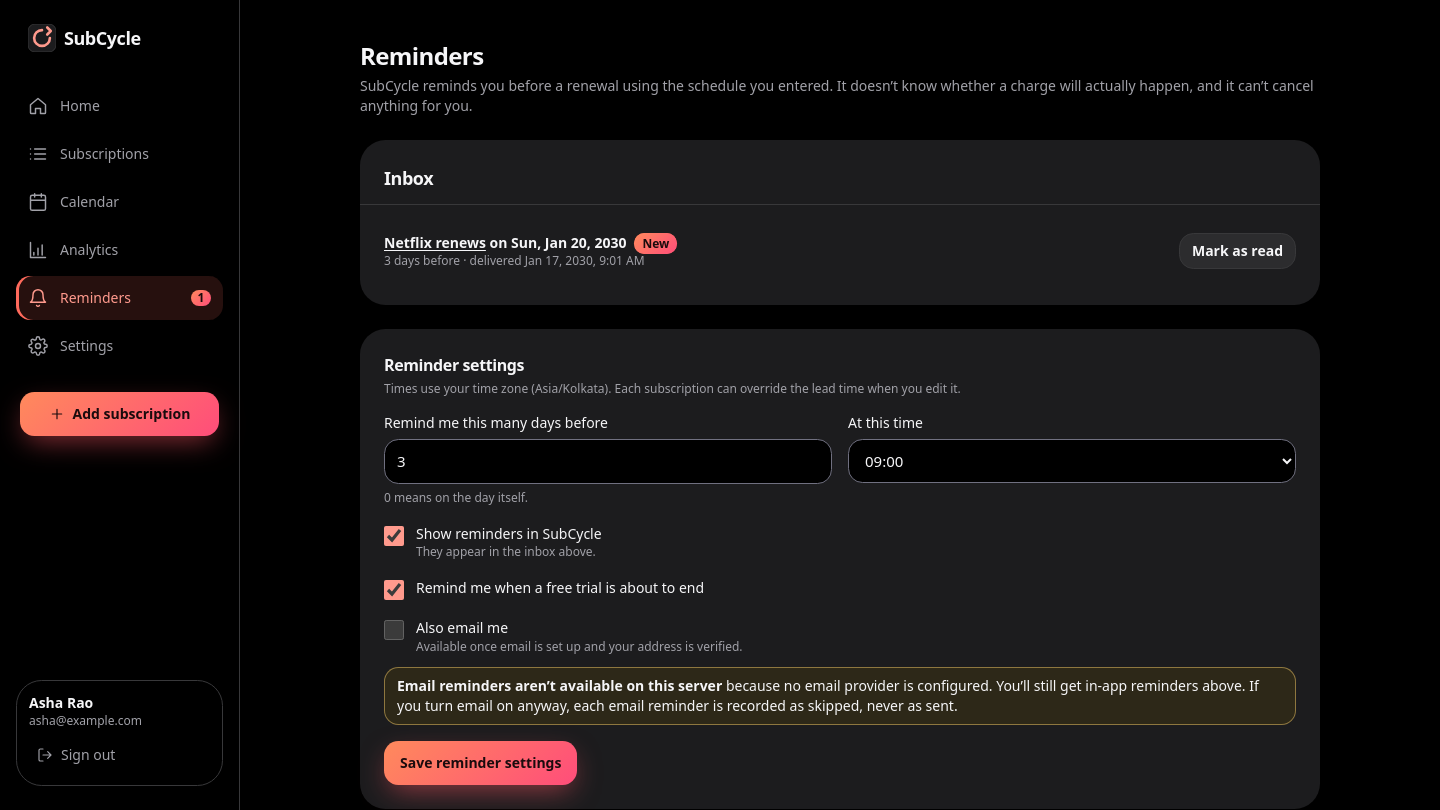
Test: reminders: inbox › a failed dismissal shows an error and keeps the reminder unread
Expected: the heading "Reminders" is shown, [360,39,484,72]
Click the button with aria-label "Mark as read: reminder for Netflix".
click(1237, 251)  # box [1179,233,1296,269]
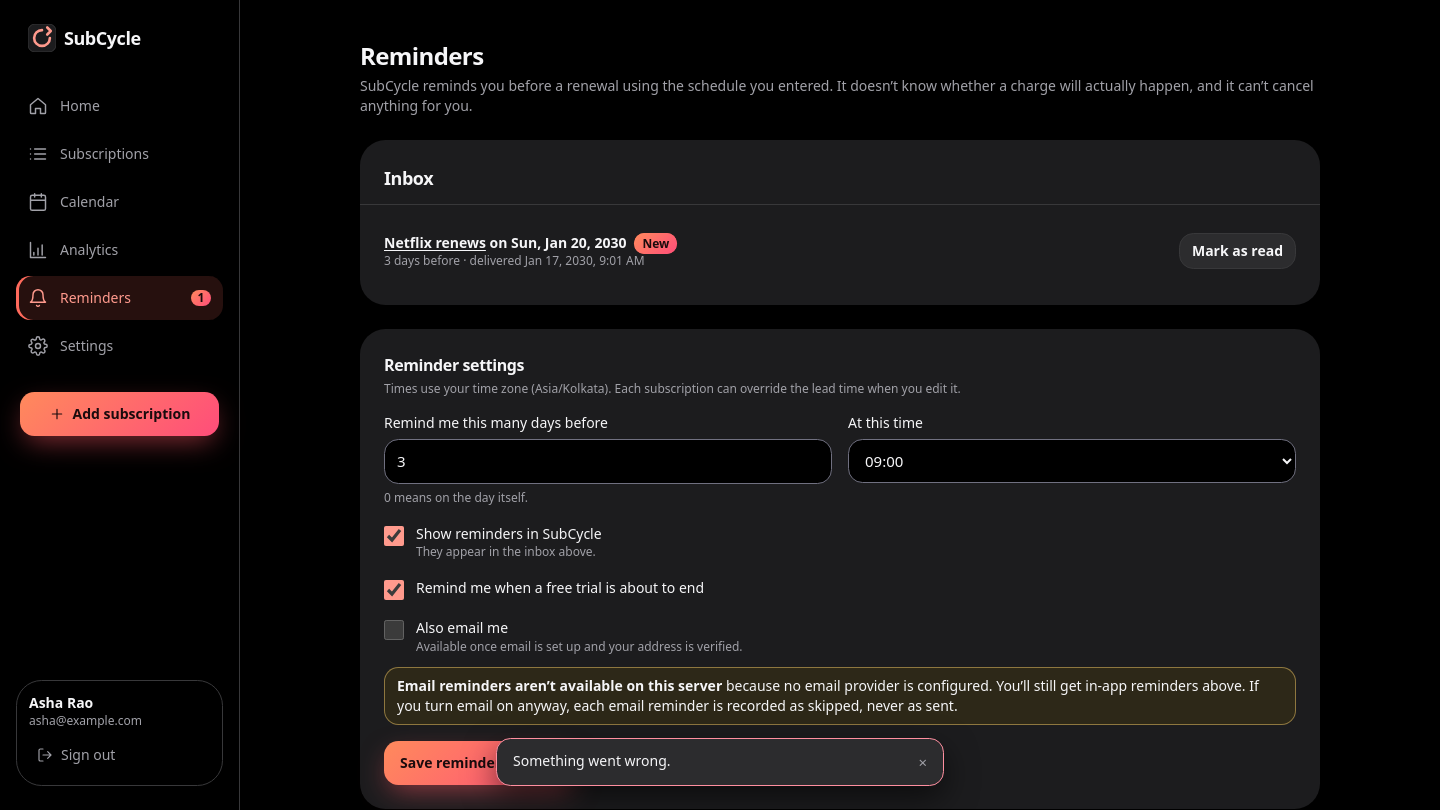
Expected: the text "New" is shown, [634,233,677,254]
Expected: the text "Something went wrong." is shown, [513,750,671,770]
